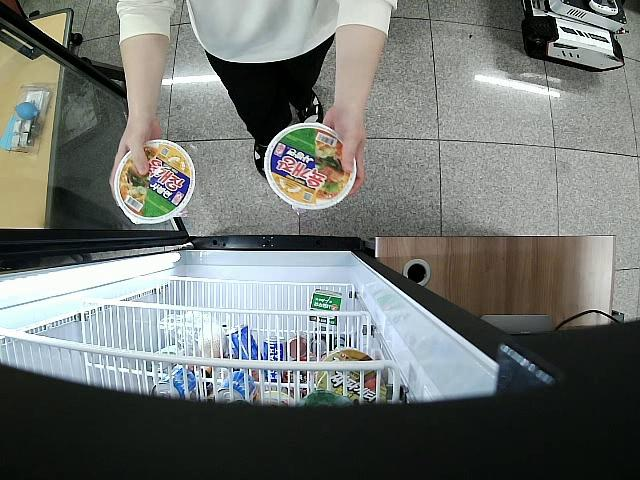00_hand: (108, 119, 161, 210), (323, 107, 367, 198)
09_yukGaeJang: (265, 123, 356, 209), (116, 141, 195, 224)
